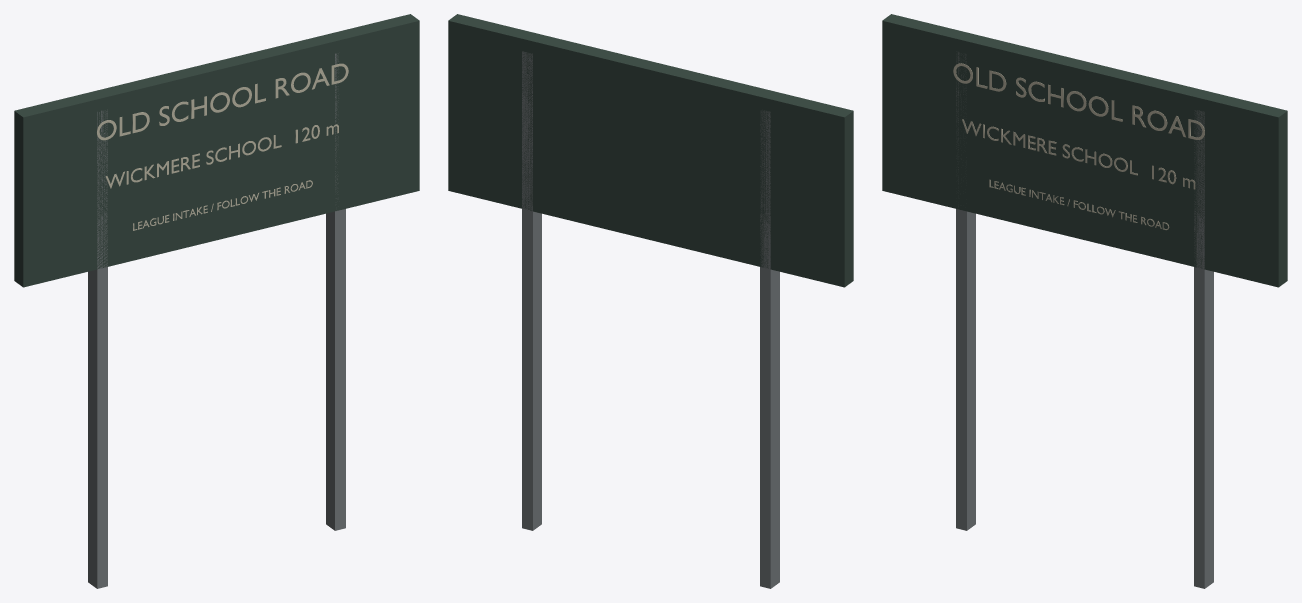
The model's file is route-sign.glb.
The picture shows the model from 3 angles, left to right: view 1: azimuth 30°, elevation 25°; view 2: azimuth 150°, elevation 25°; view 3: azimuth 330°, elevation 25°; orthographic projection.
Visible parts, largest first — view 1: Direction board, Signpost, Signpost.001, Route, Distance, Warning; view 2: Direction board, Signpost.001, Signpost; view 3: Direction board, Signpost.001, Signpost, Route, Distance, Warning.
Boxes of the visible parts, x1,y1,x2,y2 form: Direction board: (14, 14, 419, 287); Signpost: (88, 109, 107, 588); Signpost.001: (326, 53, 345, 530); Route: (96, 63, 348, 140); Distance: (105, 124, 338, 188); Warning: (133, 180, 312, 230); Direction board: (448, 14, 853, 287); Signpost.001: (522, 51, 541, 530); Signpost: (760, 110, 779, 588); Direction board: (882, 14, 1287, 287); Signpost.001: (1194, 110, 1213, 588); Signpost: (956, 51, 975, 530); Route: (953, 63, 1204, 139); Distance: (962, 119, 1195, 189); Warning: (989, 179, 1169, 230).
Bounding box in the file's own units: 2 × 2.36 × 0.0917.
